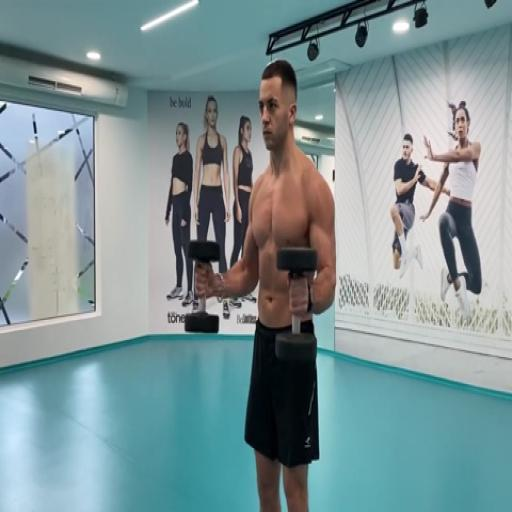exercise: (193, 57, 339, 510), (418, 98, 485, 324), (387, 131, 451, 280), (162, 120, 196, 308)
